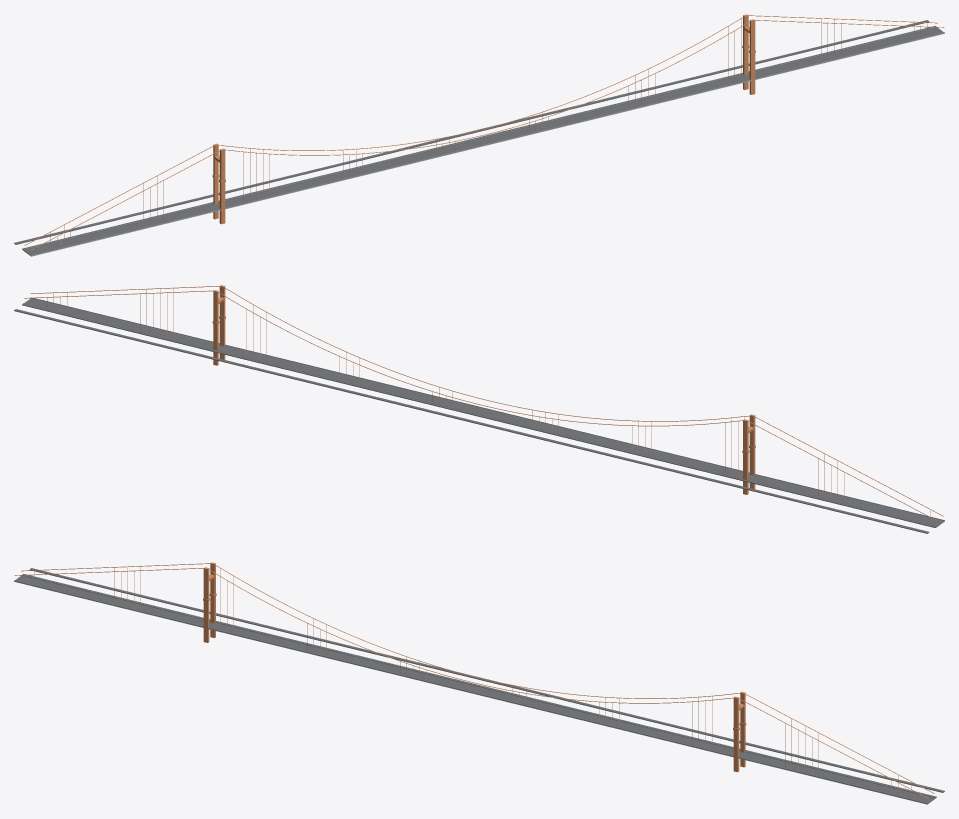
The model's file is source.glb.
The picture shows the model from 3 angles, top to bottom: view 1: azimuth 30°, elevation 25°; view 2: azimuth 150°, elevation 25°; view 3: azimuth 330°, elevation 25°; orthographic projection.
Parts seen in each view (by area): view 1: worldgen; view 2: worldgen; view 3: worldgen.
Boxes of the visible parts, x1,y1,x2,y2 form: worldgen: (14,14,944,256); worldgen: (14,285,944,533); worldgen: (14,562,944,804).
Size of the model in its own units: 2200 by 170 by 73.96.
